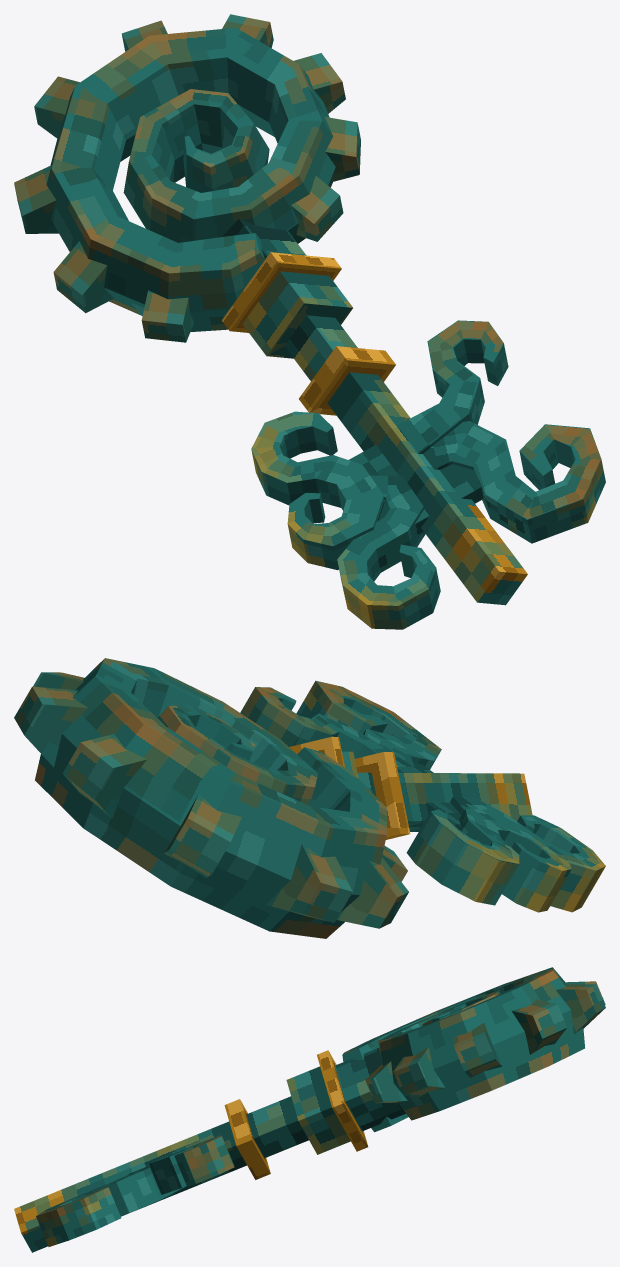
The model's file is key_roguelite03.gltf.
3 renders of one model, top to bottom at view 1: azimuth 30°, elevation 25°; view 2: azimuth 150°, elevation 25°; view 3: azimuth 270°, elevation 25°, orthographic. The views are drawn at different scales.
Parts seen in each view (by area): view 1: head, tentacles, shaft; view 2: head, tentacles, shaft; view 3: head, shaft, tentacles.
Part boxes in pixels (x1=…): head: x1=14, y1=14, x2=360, y2=342; tentacles: x1=251, y1=320, x2=605, y2=629; shaft: x1=222, y1=219, x2=527, y2=605; head: x1=14, y1=658, x2=408, y2=938; tentacles: x1=240, y1=680, x2=605, y2=912; shaft: x1=289, y1=736, x2=532, y2=839; head: x1=342, y1=967, x2=605, y2=1132; shaft: x1=14, y1=1048, x2=405, y2=1252; tentacles: x1=36, y1=1135, x2=234, y2=1246.
Bounding box in the file's own units: 17.31 × 19.12 × 35.17.
1 material, 1 textured.
